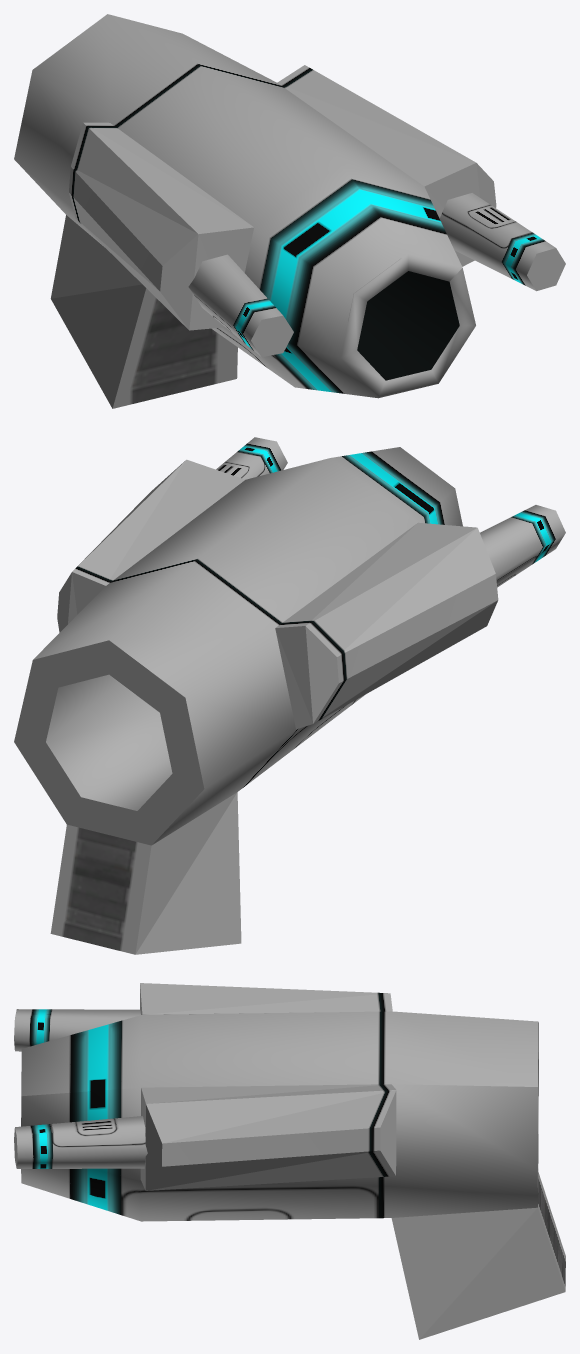
Rendered from BeeGun.FBX.
3 views of the same model, one above another, from view 1: azimuth 30°, elevation 25°; view 2: azimuth 150°, elevation 25°; view 3: azimuth 270°, elevation 25° (orthographic). The views are drawn at different scales.
Parts seen in each view (by area): view 1: BeeGun; view 2: BeeGun; view 3: BeeGun.
Boxes of the visible parts, x1,y1,x2,y2 form: BeeGun: (14, 14, 565, 408); BeeGun: (14, 437, 565, 954); BeeGun: (14, 983, 565, 1339).
Size of the model in its own units: 0.3249 by 0.3139 by 0.5178.
1 material, 1 textured.
